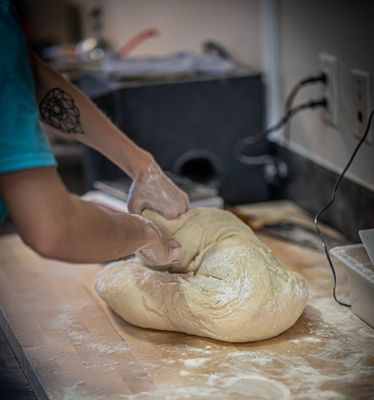sushi: (327, 237, 374, 332)
